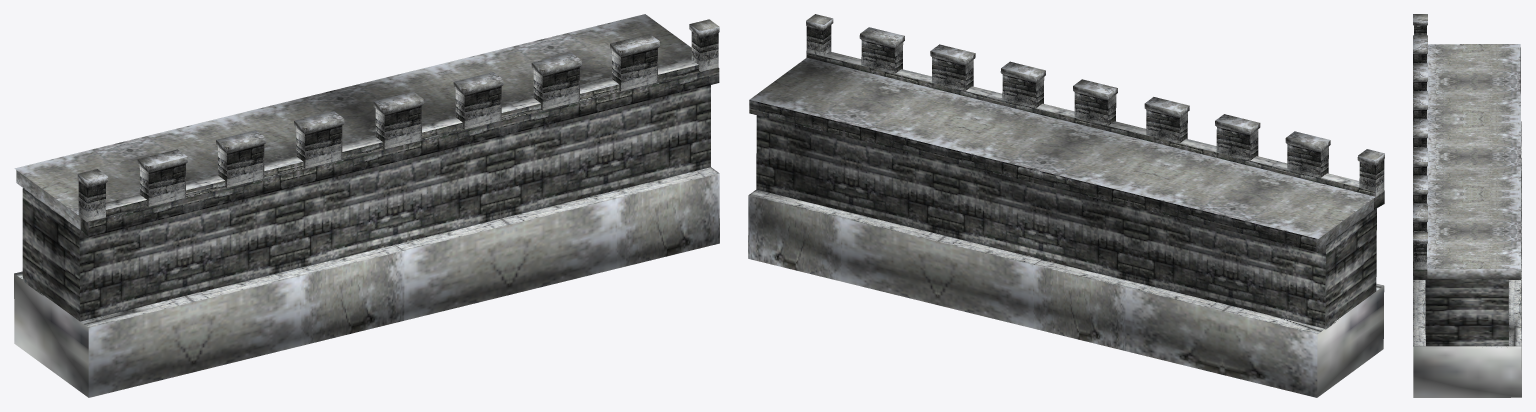
The model's file is S_Build_Snowland035.FBX.
The picture shows the model from 3 angles, left to right: view 1: azimuth 30°, elevation 25°; view 2: azimuth 150°, elevation 25°; view 3: azimuth 270°, elevation 25°; orthographic projection. The views are drawn at different scales.
Visible parts, largest first — view 1: S_Build_Snowland035; view 2: S_Build_Snowland035; view 3: S_Build_Snowland035.
Part boxes in pixels (x1=…): S_Build_Snowland035: x1=14, y1=14, x2=719, y2=397; S_Build_Snowland035: x1=748, y1=14, x2=1384, y2=397; S_Build_Snowland035: x1=1413, y1=14, x2=1521, y2=397.
Size of the model in its own units: 2347 by 479 by 772.
